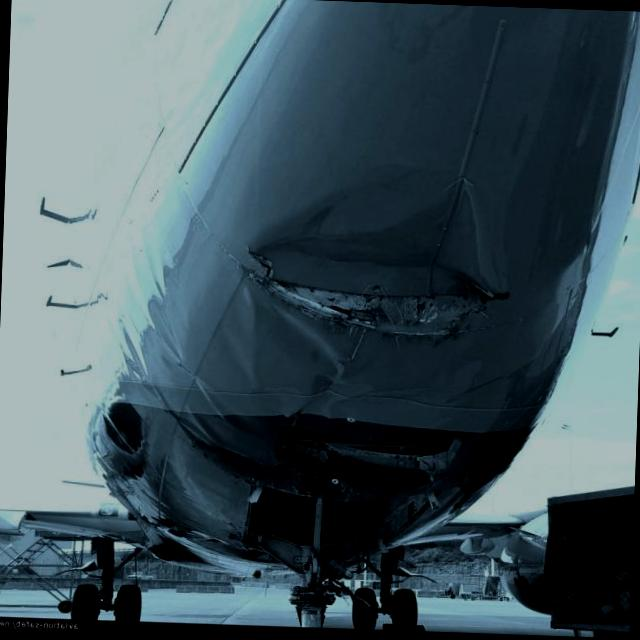crack: (234, 239, 280, 283)
dent: (246, 170, 501, 290), (261, 302, 347, 379)
